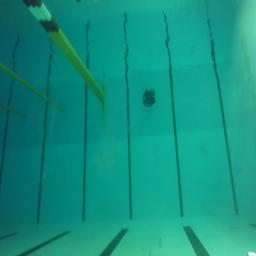Full: (143, 96, 156, 107)
